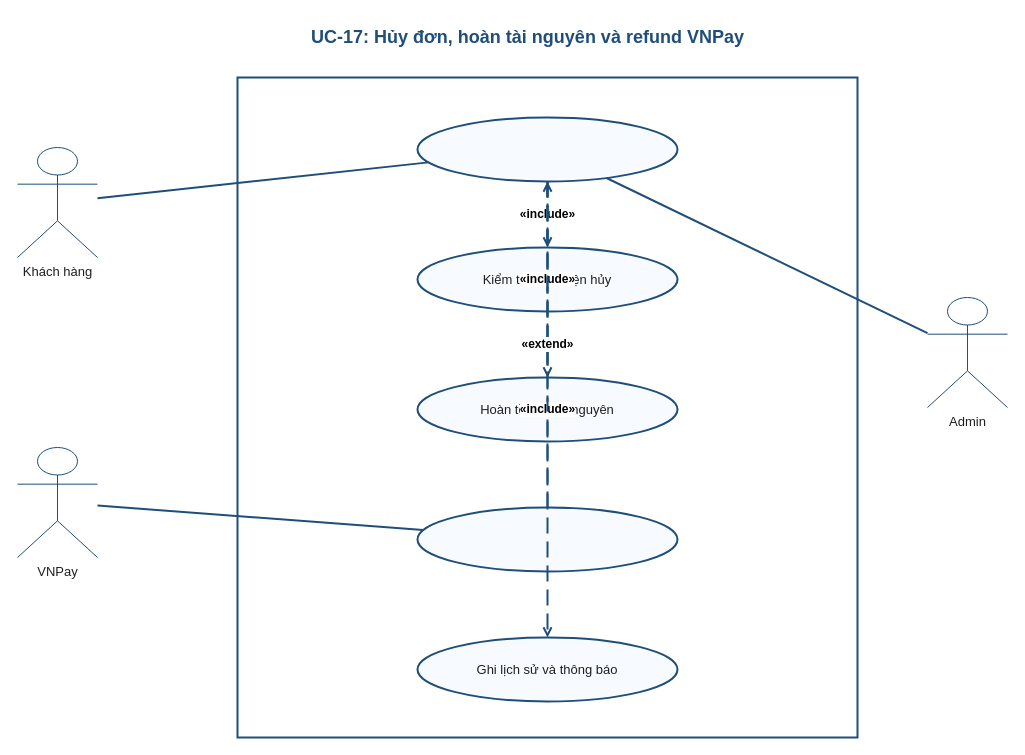
Image size: 1025x755. Some labels were removed from this diagram. Here are the shapes that lost their labels. From the top down, the box of each, then its label:
(416, 116, 678, 182): Yêu cầu hủy đơn
(236, 76, 858, 738): HỆ THỐNG MARCUSSTORE
(416, 506, 678, 572): Hoàn tiền VNPay
